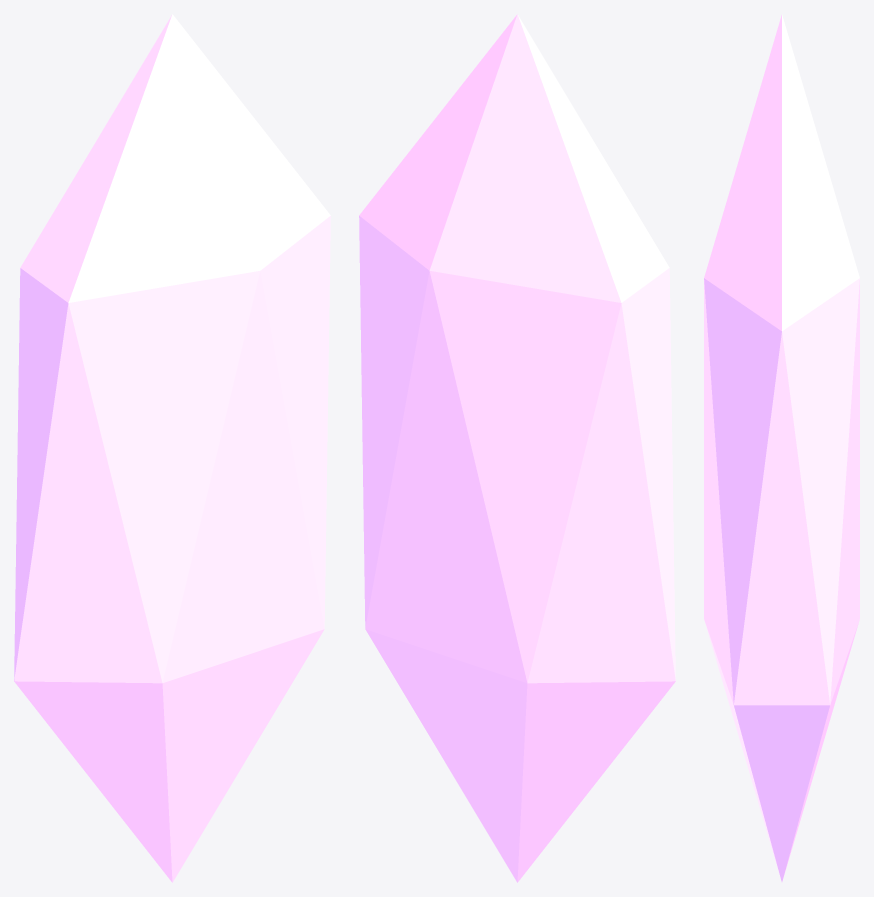
The model's file is arcane_shard_a.glb.
3 renders of one model, left to right at view 1: azimuth 30°, elevation 25°; view 2: azimuth 150°, elevation 25°; view 3: azimuth 270°, elevation 25°, orthographic.
Visible parts, largest first — view 1: arcane_shard_a; view 2: arcane_shard_a; view 3: arcane_shard_a.
Part boxes in pixels (x1,y1,x2,y2): arcane_shard_a: (14, 14, 330, 882); arcane_shard_a: (359, 14, 675, 882); arcane_shard_a: (704, 15, 859, 881).
Size of the model in its own units: 0.2594 by 0.68 by 0.1106.
